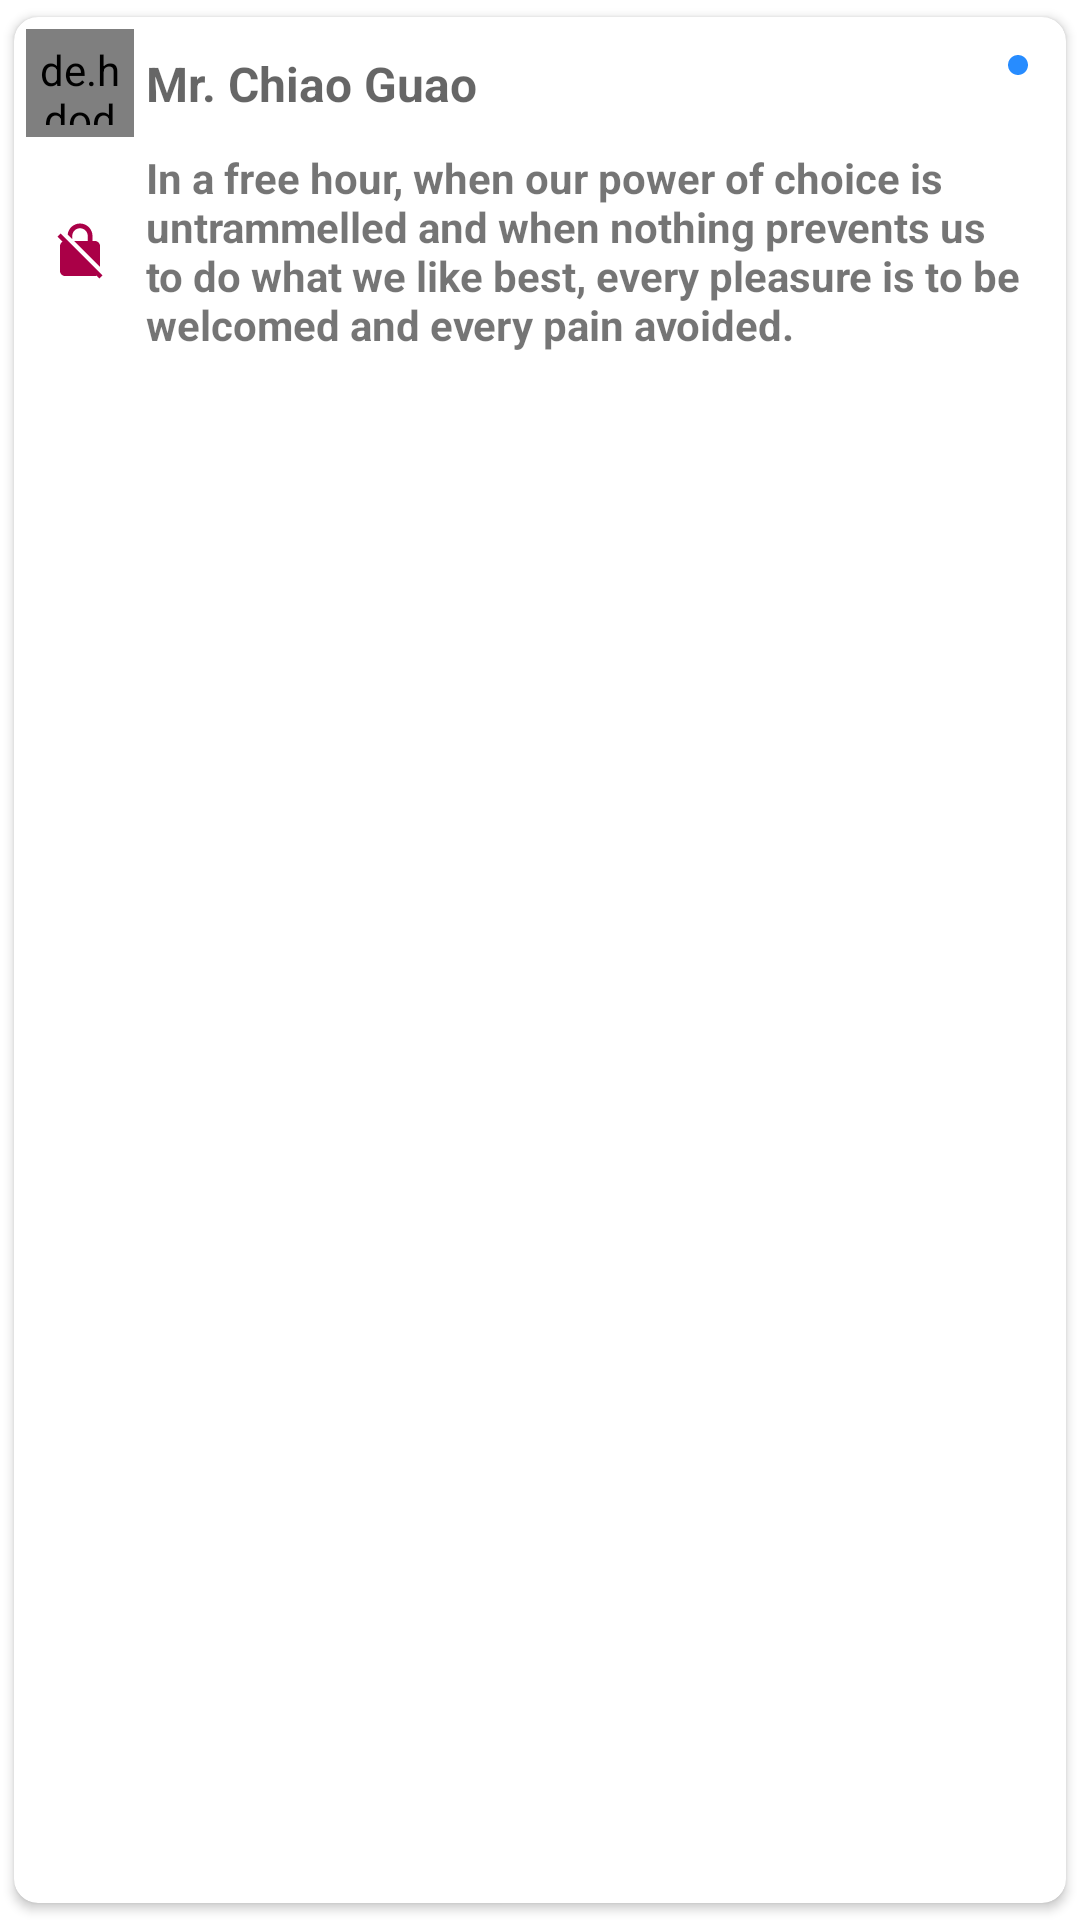

Icon click points for this 1080w x 1920h phone screenshot, format (x=x, y=y):
Shows if the sms channel is secure: (x=80, y=251)
